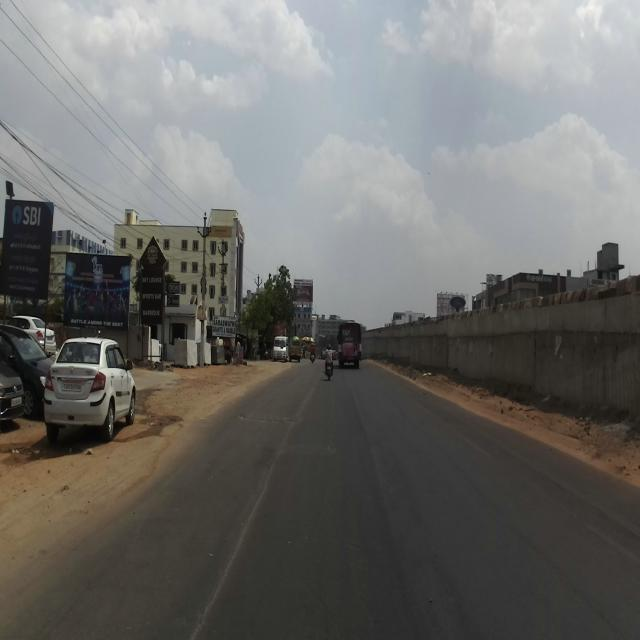Car_Maruti-Suzuki: (43, 336, 136, 444)
